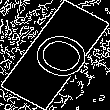O_SE: (16, 24, 94, 86)
